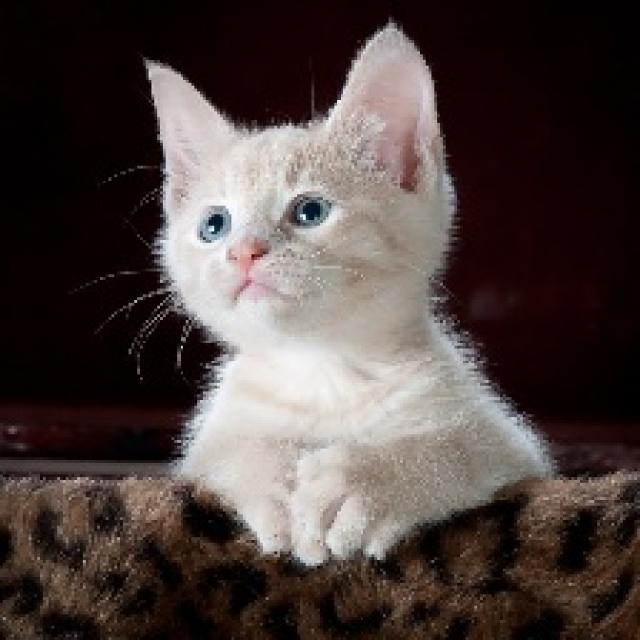bear: (101, 28, 567, 544)
